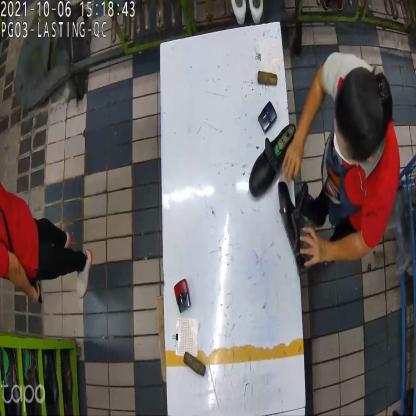shoes: (246, 124, 312, 271)
stamp: (258, 100, 277, 136), (174, 279, 192, 316)
